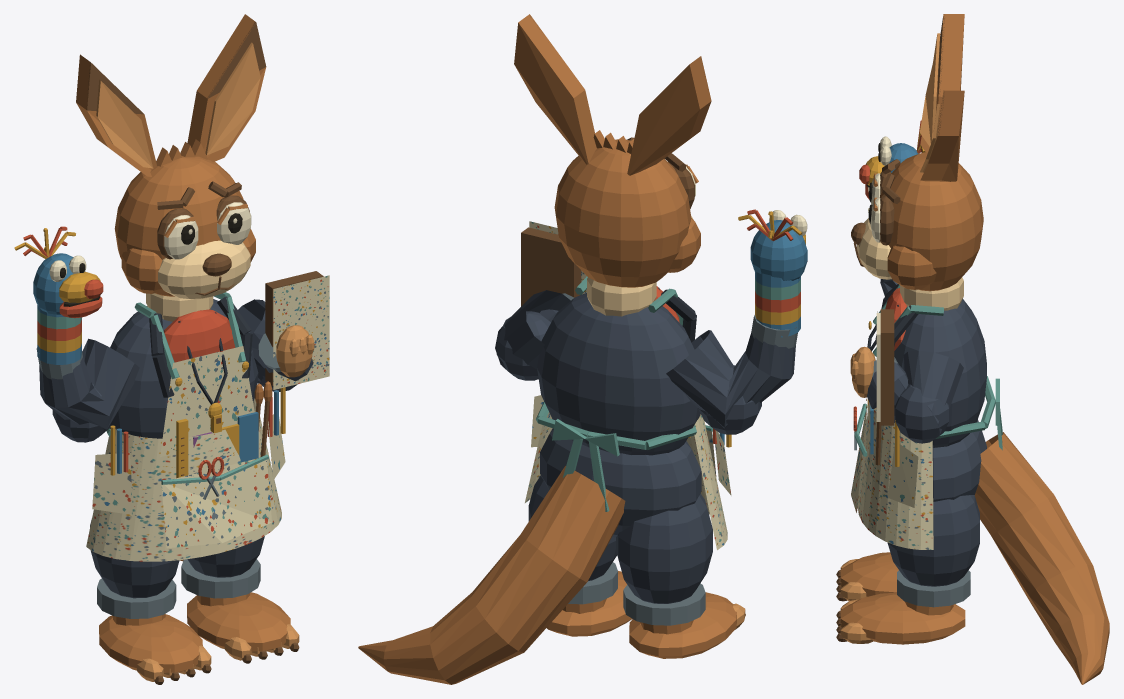
The model's file is Pedaguru.glb.
The picture shows the model from 3 angles, left to right: view 1: azimuth 30°, elevation 25°; view 2: azimuth 150°, elevation 25°; view 3: azimuth 270°, elevation 25°; orthographic projection. The views are drawn at different scales.
Visible parts, largest first — view 1: Pedaguru; view 2: Pedaguru; view 3: Pedaguru.
Part boxes in pixels (<box>): Pedaguru: <box>14,14,329,684</box>; Pedaguru: <box>358,14,807,684</box>; Pedaguru: <box>836,14,1109,684</box>.
Size of the model in its own units: 1.95 by 3.22 by 1.42.
Materials: 1 (1 with a texture image).
